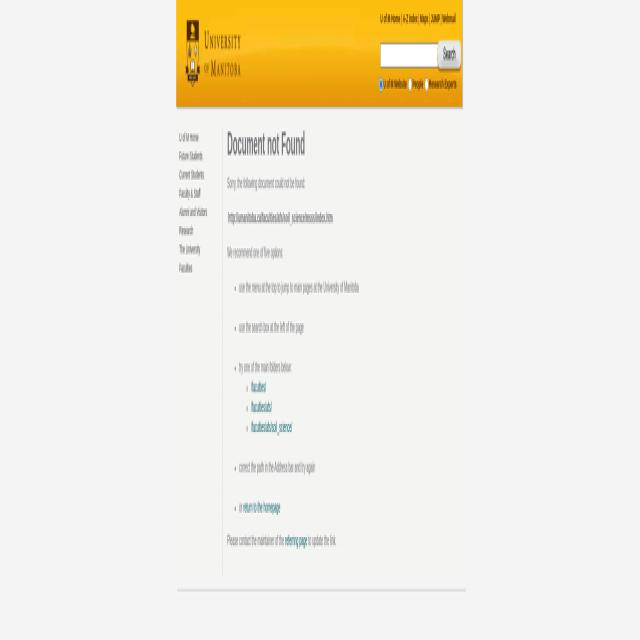button: (437, 38, 461, 73)
field: (380, 43, 437, 67)
